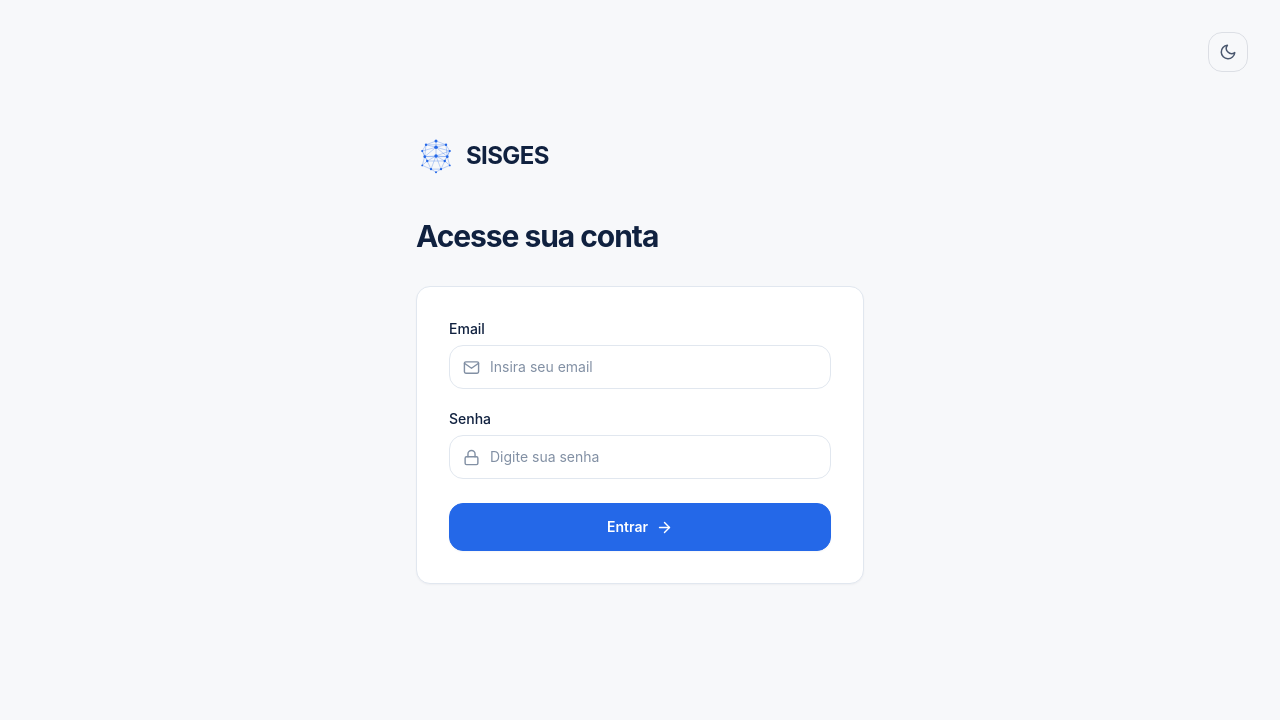
Scenario: Autenticação › faz login com sucesso e redireciona para home
The image size is (1280, 720).
Type "teacher-cypress@test.local" into the field with id "email" at (640, 367), box [449,345,831,389]
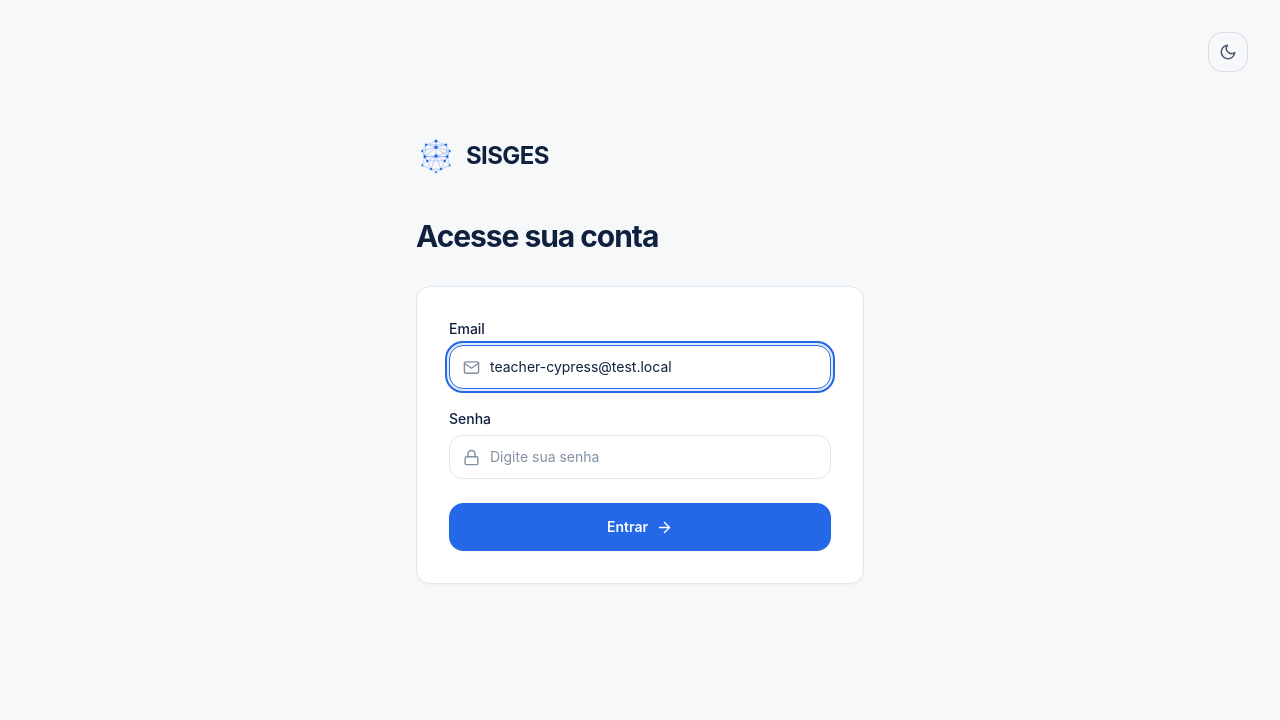
Type "professor123" into the password field labelled "Senha" at (640, 457), box [449,435,831,479]
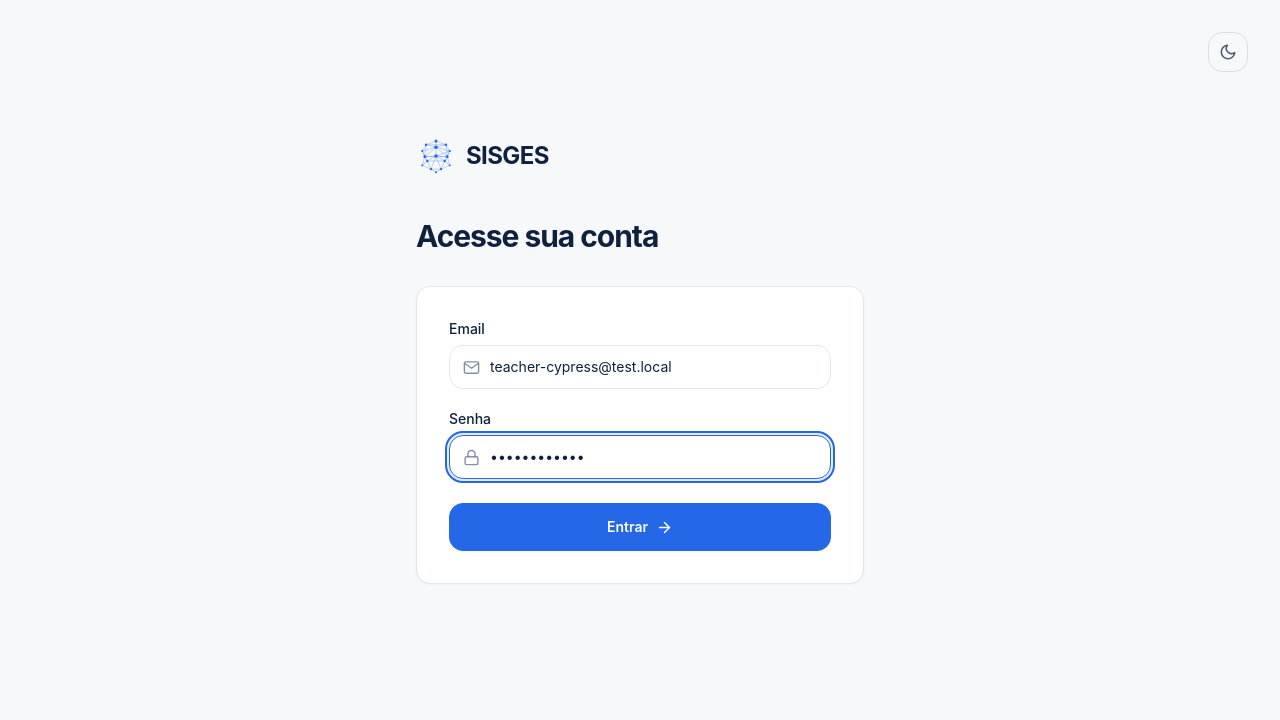
Click the button "Entrar" at (640, 527), box [449,503,831,551]
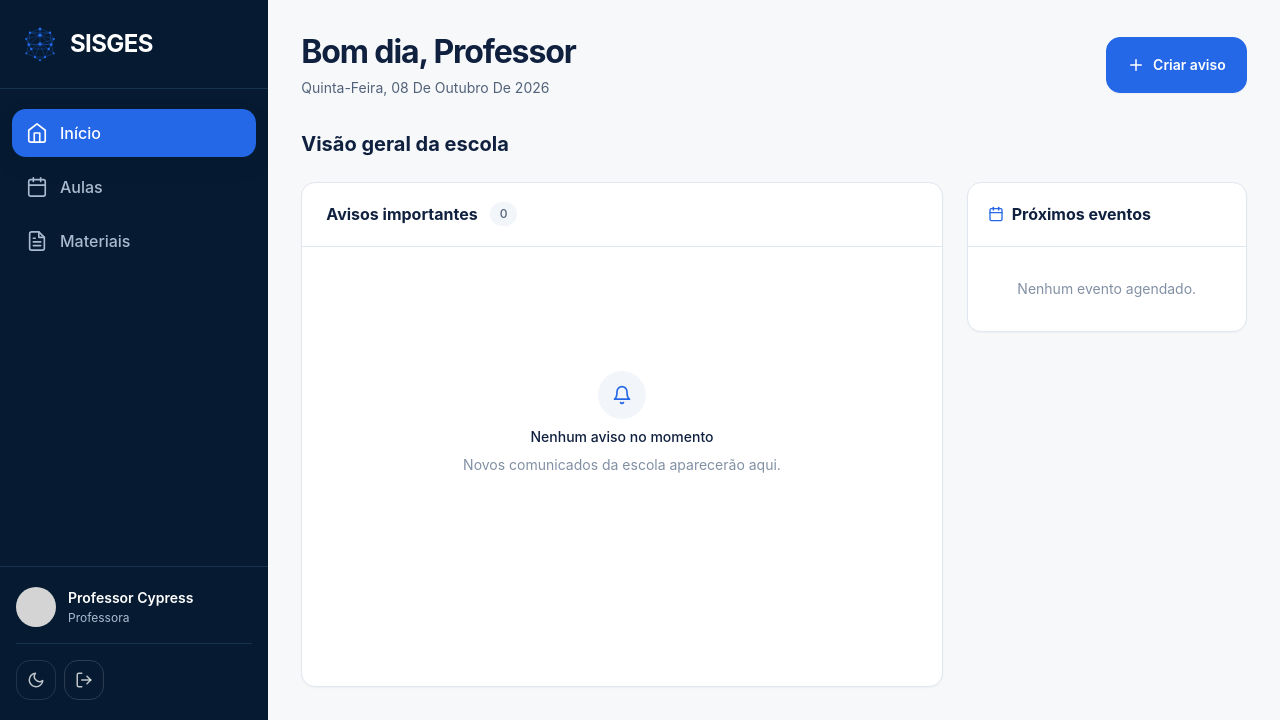
Now the button "Criar aviso" is shown, box [1106,38,1247,94]
